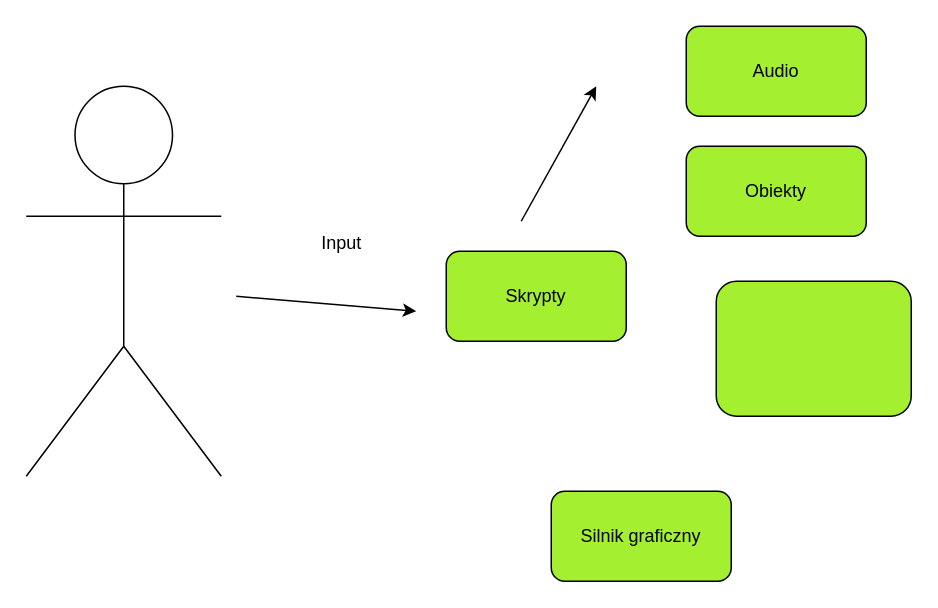
The diagram is 938 pixels wide and 608 high, and some of its shapes have lost their labels. Each missing label, with the box of its shape:
Actor: (25, 85, 221, 476)
Silnik fizyki 2D: (715, 280, 911, 416)
